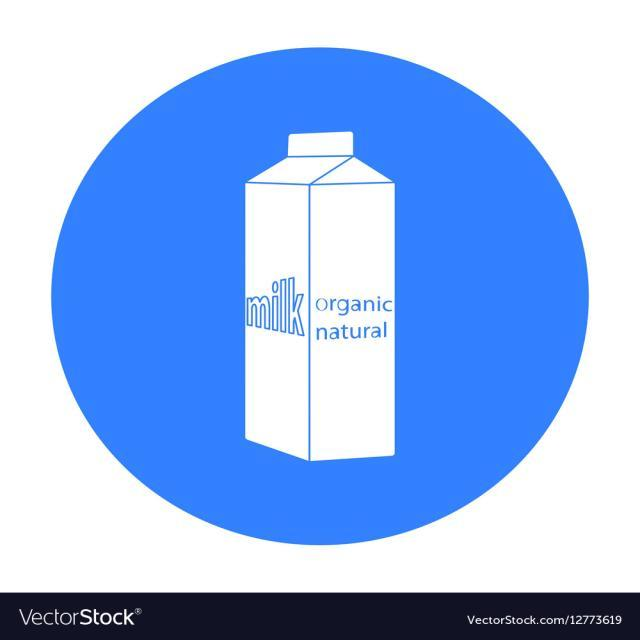Carton: (234, 122, 411, 466)
